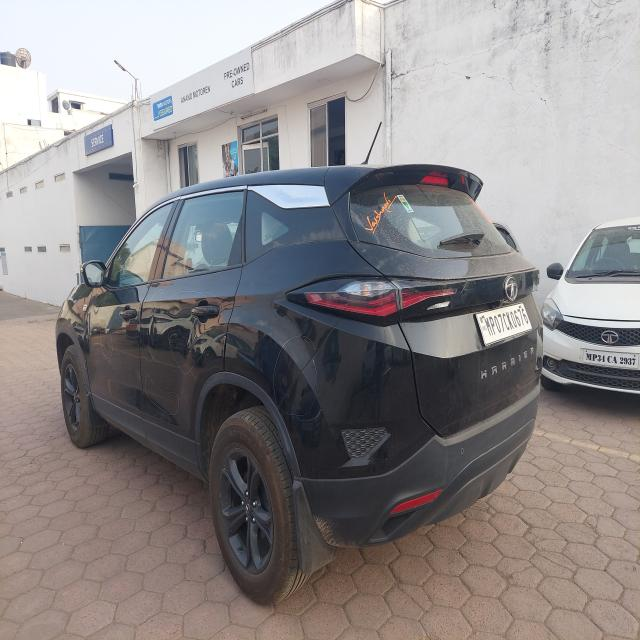damage: (147, 289, 223, 378), (264, 324, 327, 424), (144, 374, 178, 415), (97, 316, 116, 361), (123, 289, 136, 306), (139, 322, 144, 350), (83, 357, 87, 369)
